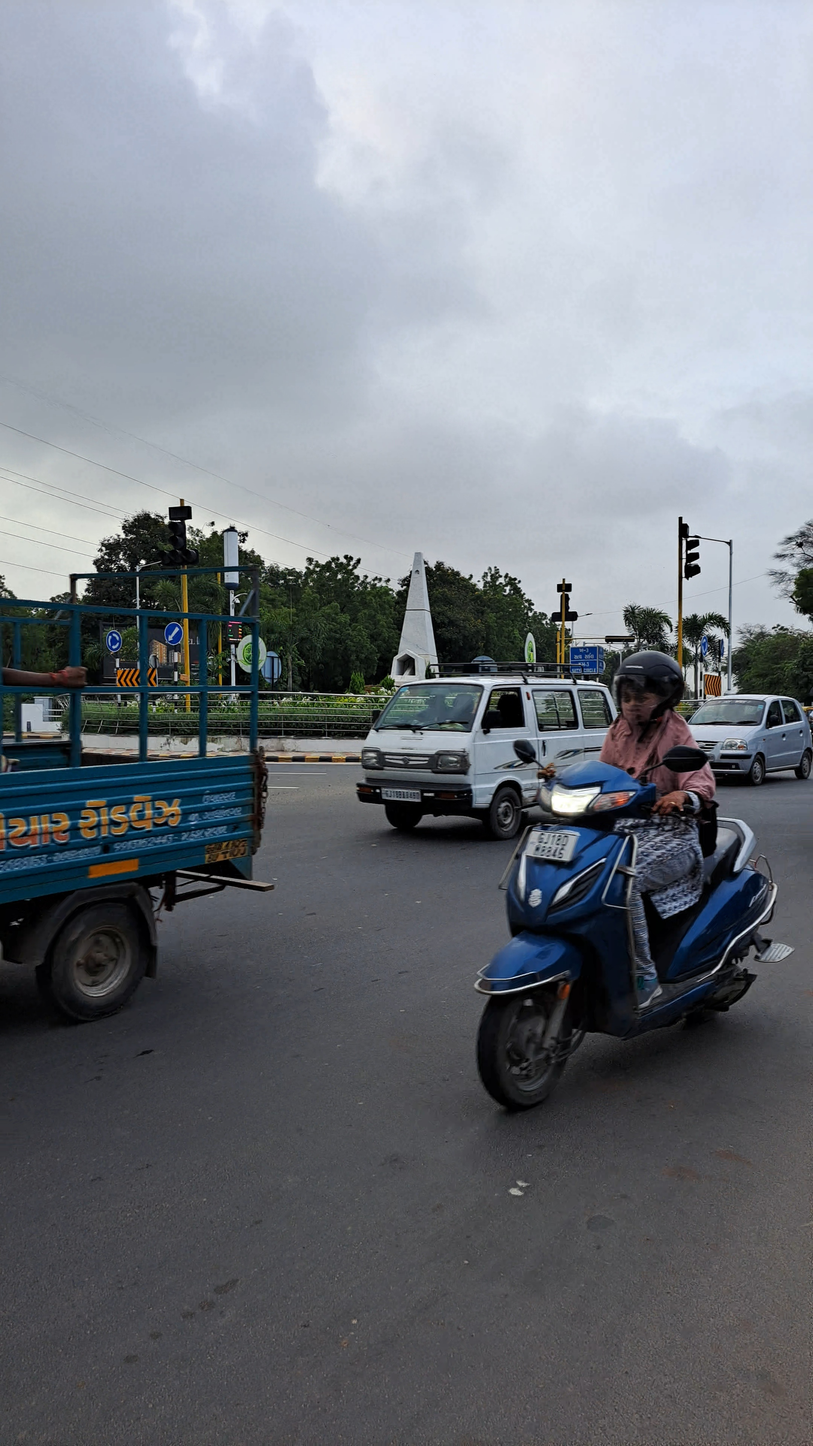BikeWithRider: (458, 644, 813, 1121)
Helmet: (608, 645, 699, 732)
